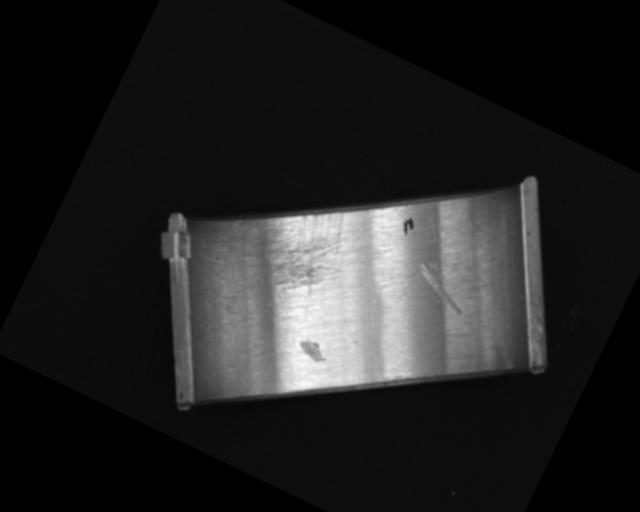blot: (398, 214, 417, 237)
bruise: (294, 334, 331, 365)
nick: (388, 198, 450, 286), (407, 259, 473, 314)
scratch: (219, 173, 367, 316)
